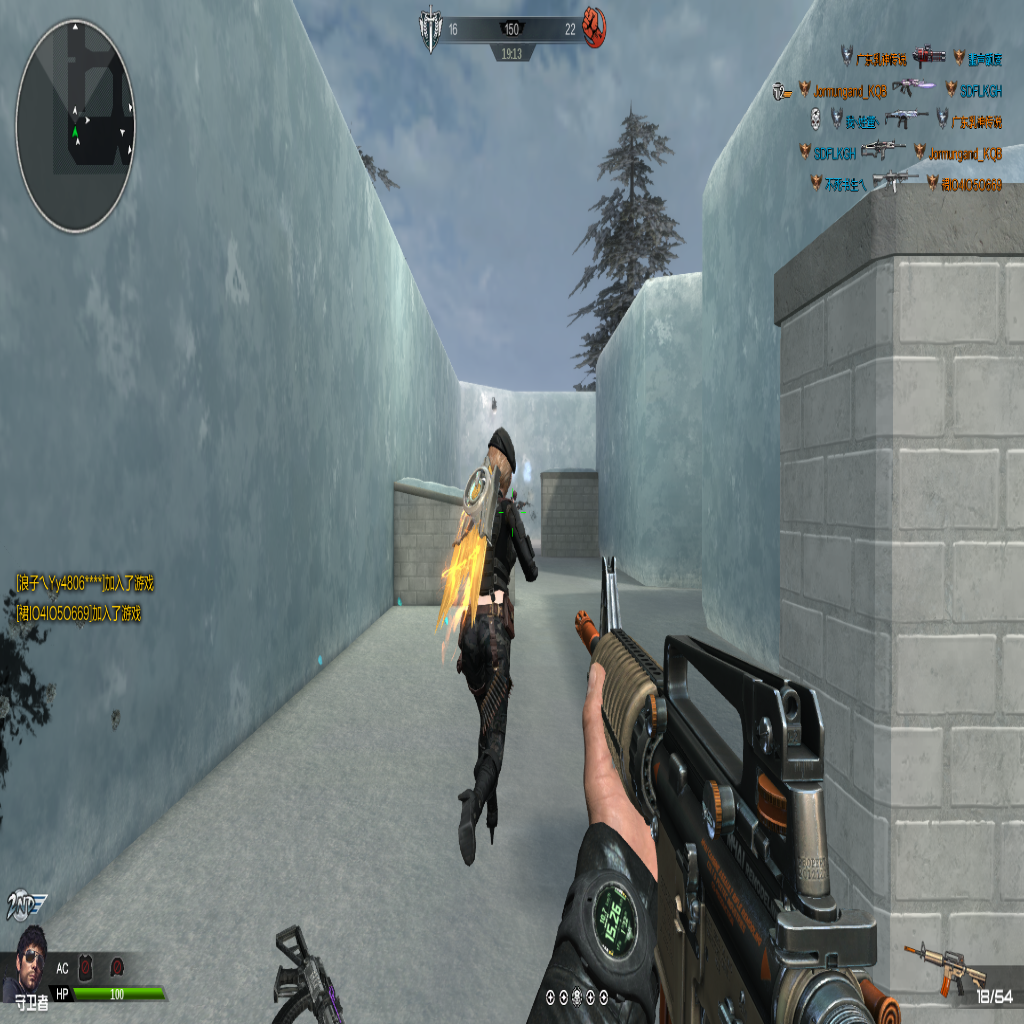ct: (447, 427, 535, 871)
